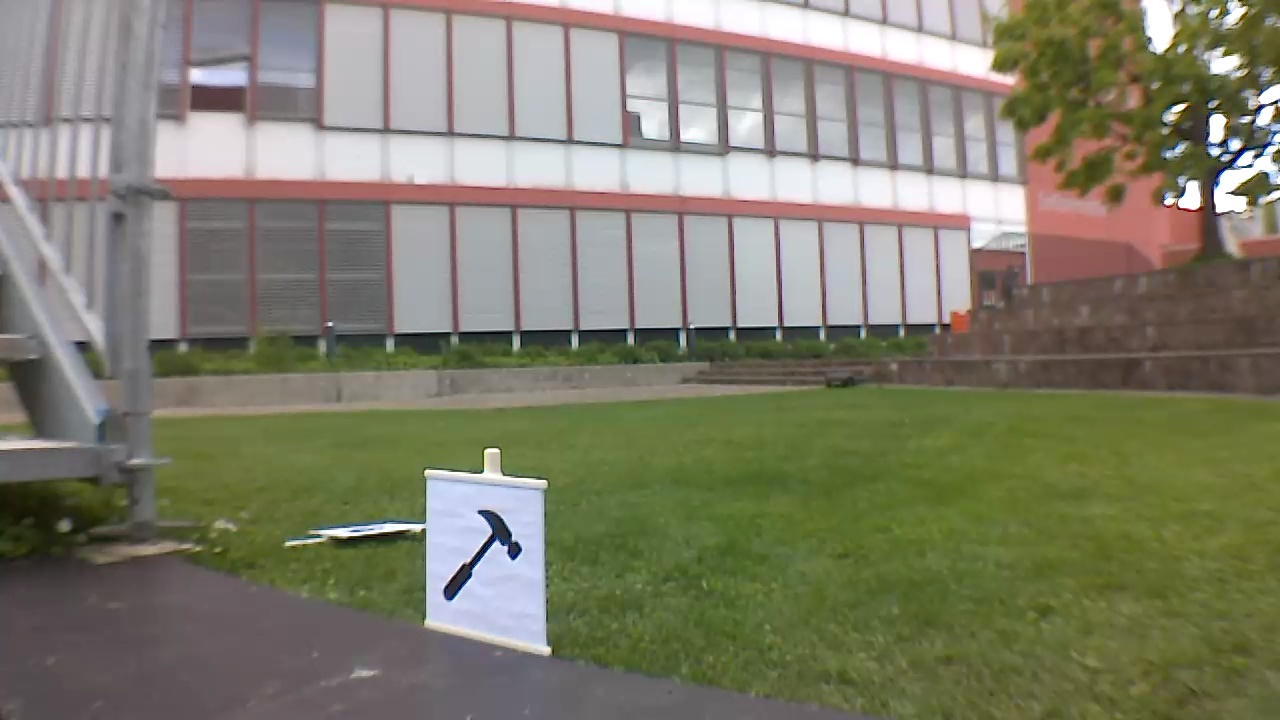hammer: (437, 501, 532, 614)
